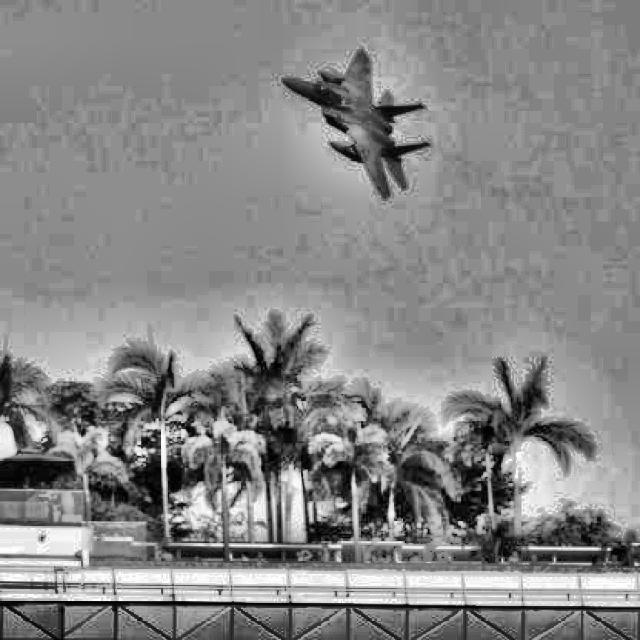F15: (280, 48, 432, 200)
